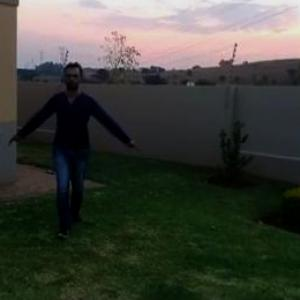land: (24, 64, 136, 208)
